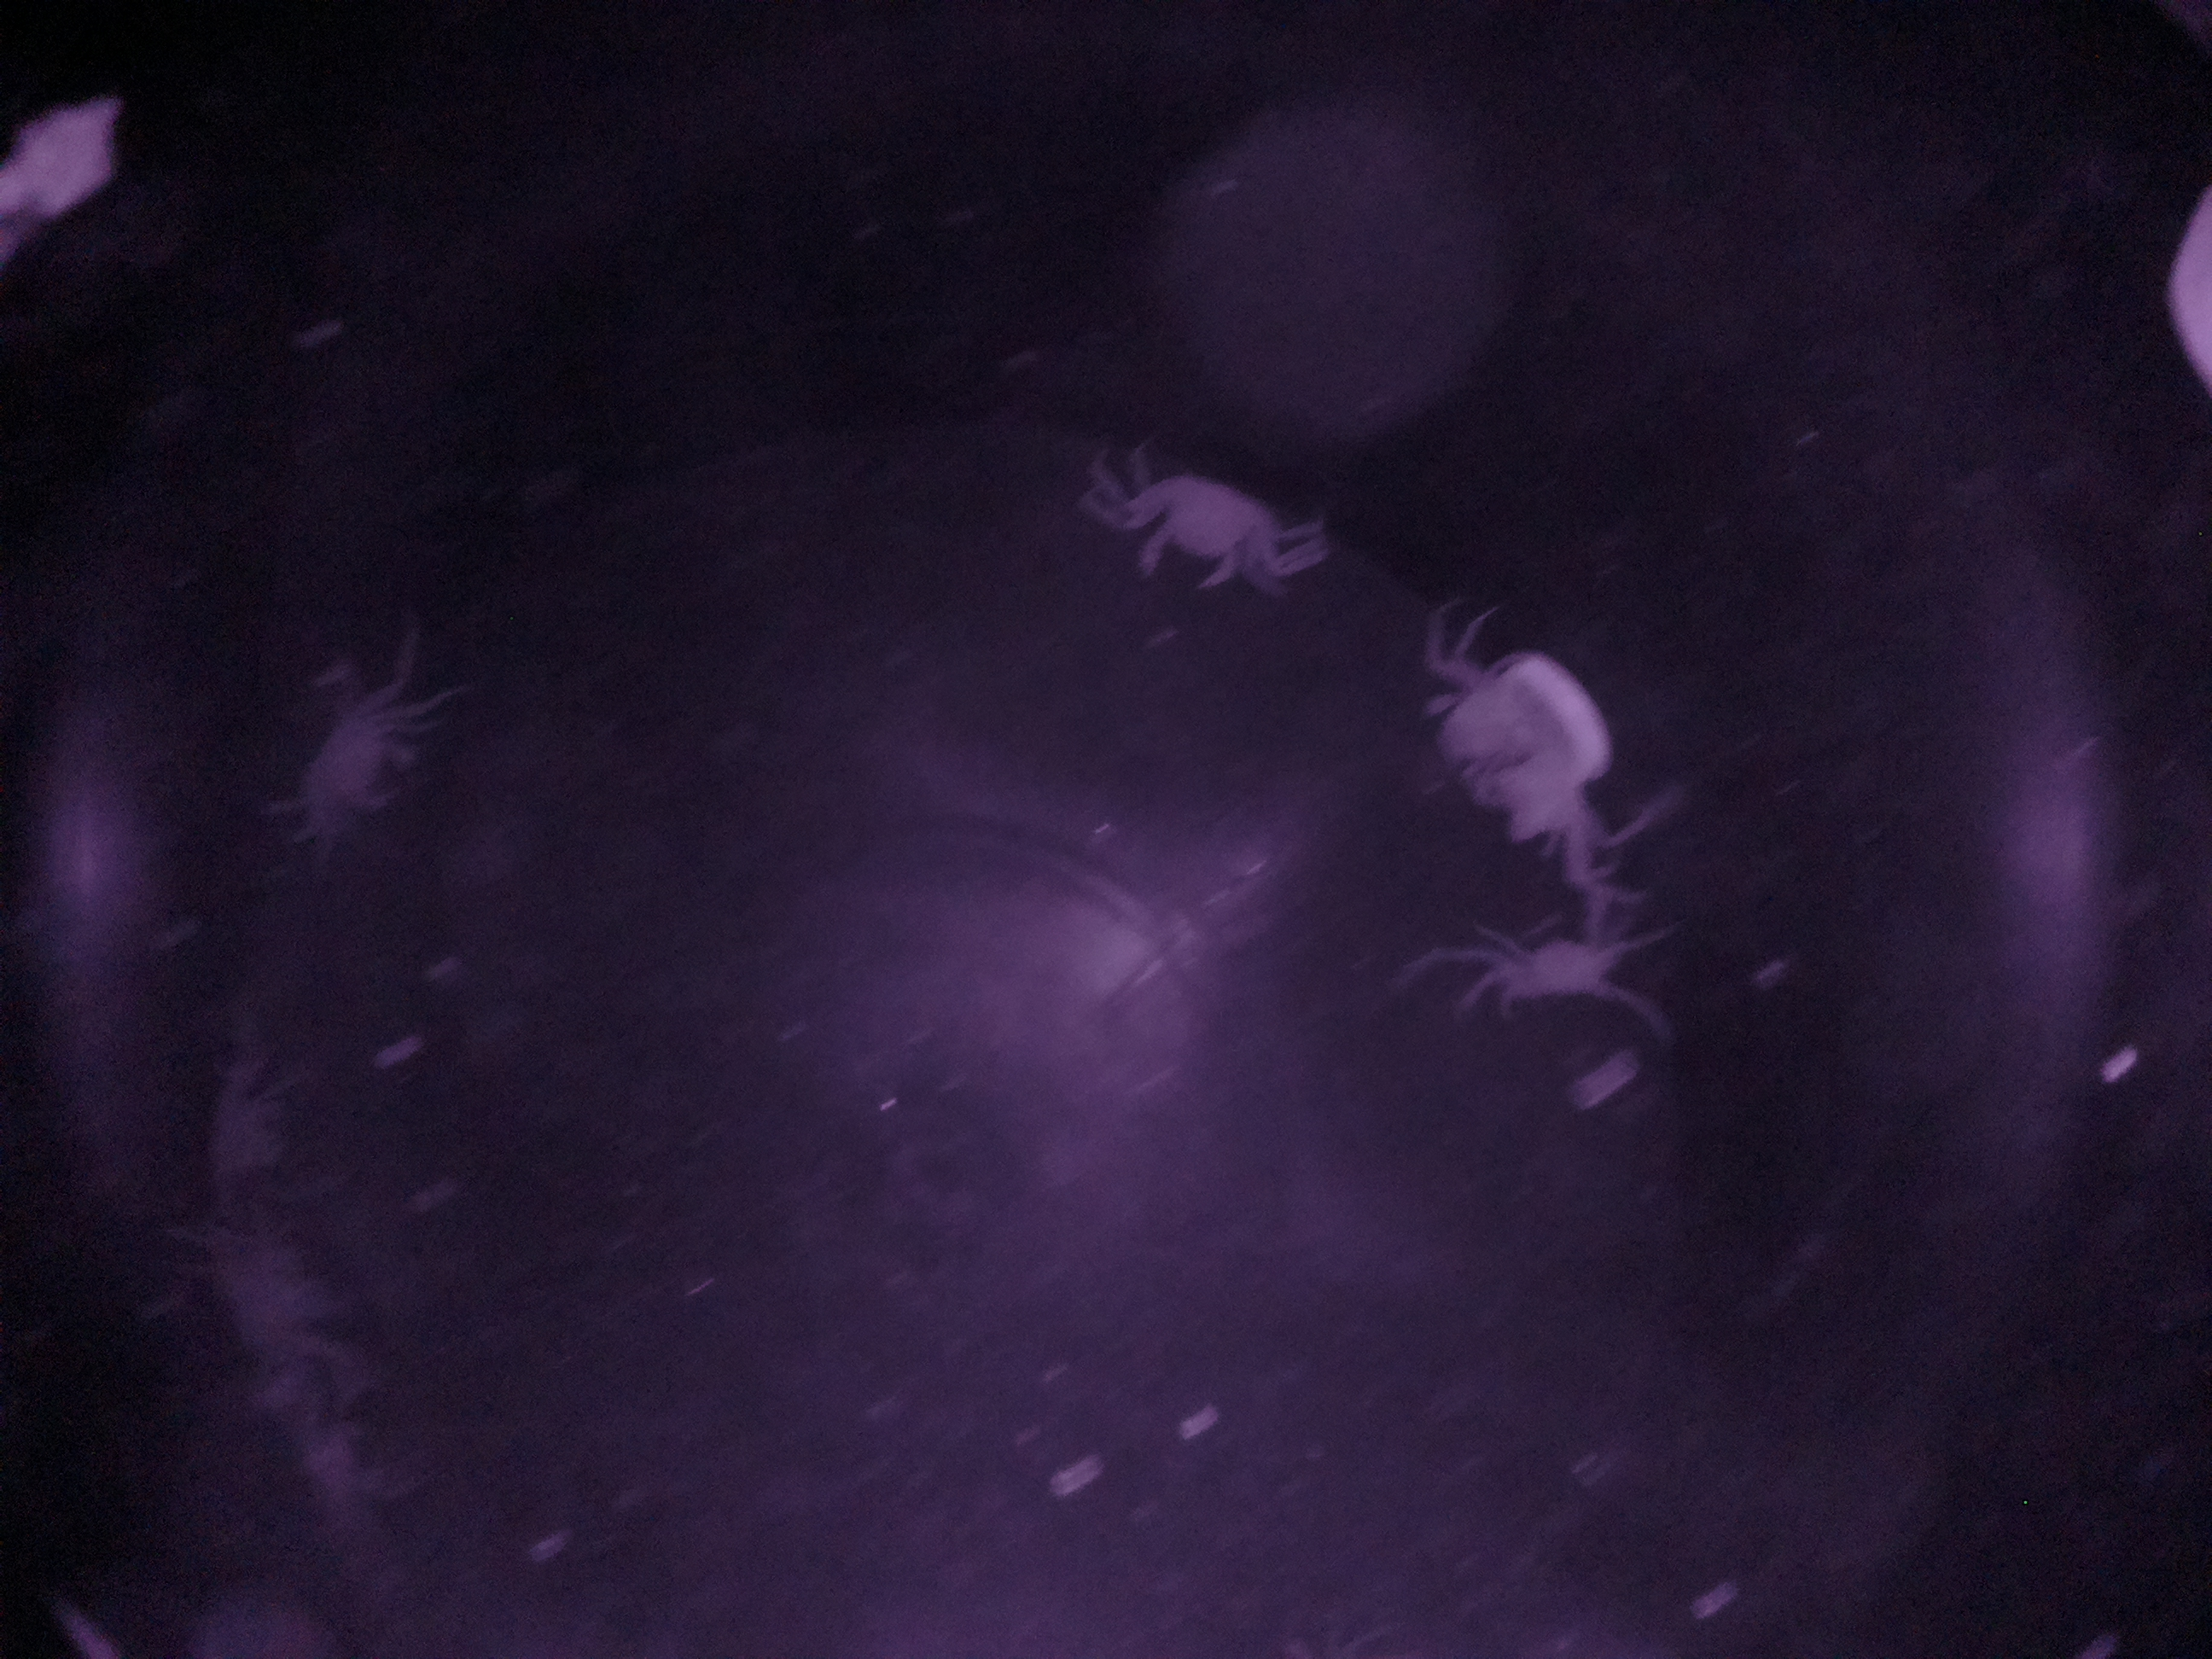Crab: (1078, 437, 1322, 608), (1442, 896, 1672, 1040)
